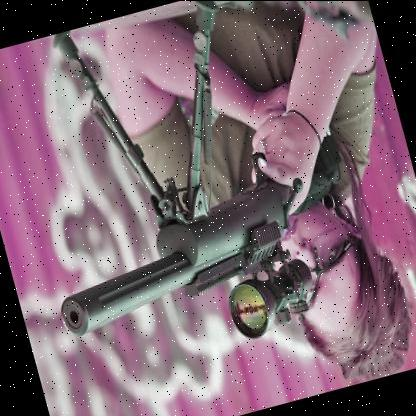rifle: (6, 15, 382, 360)
